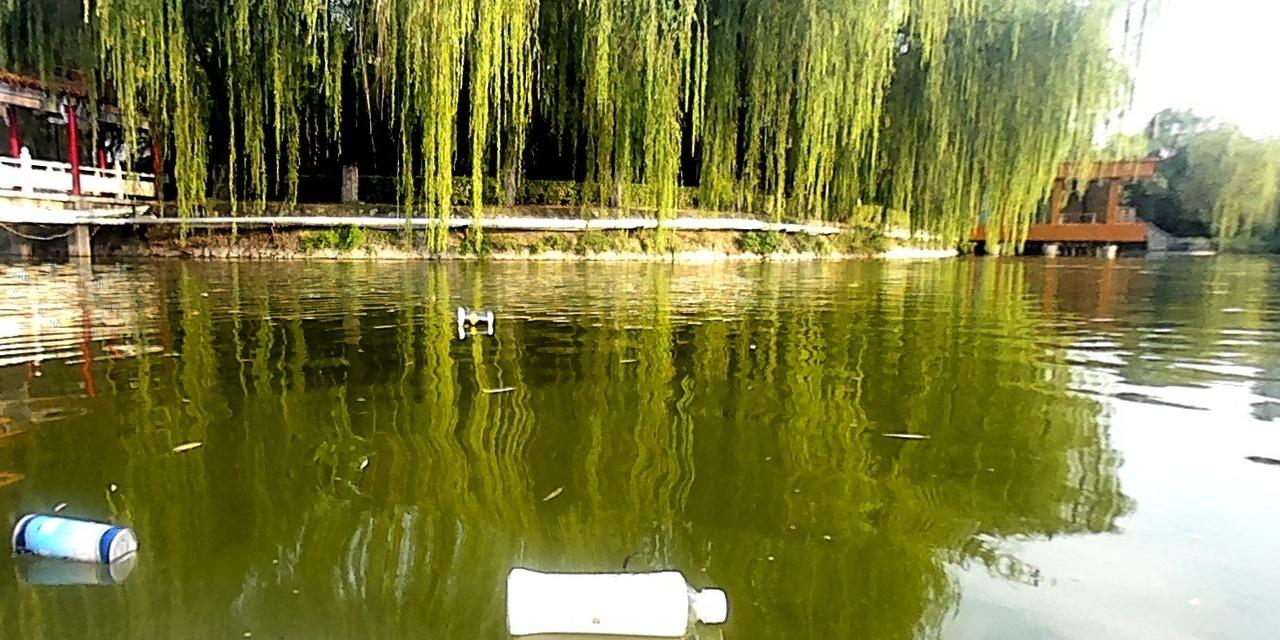bottle: (498, 563, 734, 639), (8, 508, 134, 564), (451, 303, 498, 330)
